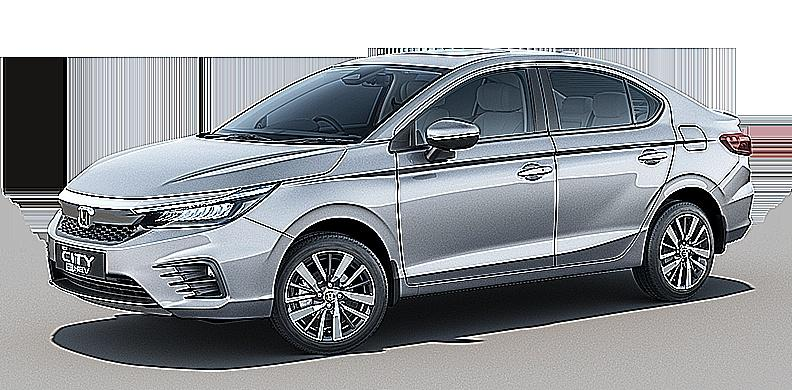Car hood: (62, 139, 351, 198)
Fender - -F-L-: (240, 137, 407, 299)
Fender - -R-L-: (645, 81, 741, 235)
Front bumper: (43, 215, 295, 324)
Headlight - -L-: (144, 178, 285, 225)
Passenger-s door - -F-L-: (392, 49, 560, 300)
Passenger-s door - -R-L-: (533, 49, 680, 289)
Rear bumper: (707, 155, 755, 245)
Rear light - -L-: (719, 133, 753, 155)
Side bumper - -L-: (391, 234, 655, 313)
Side mirror - -L-: (424, 115, 484, 164)
